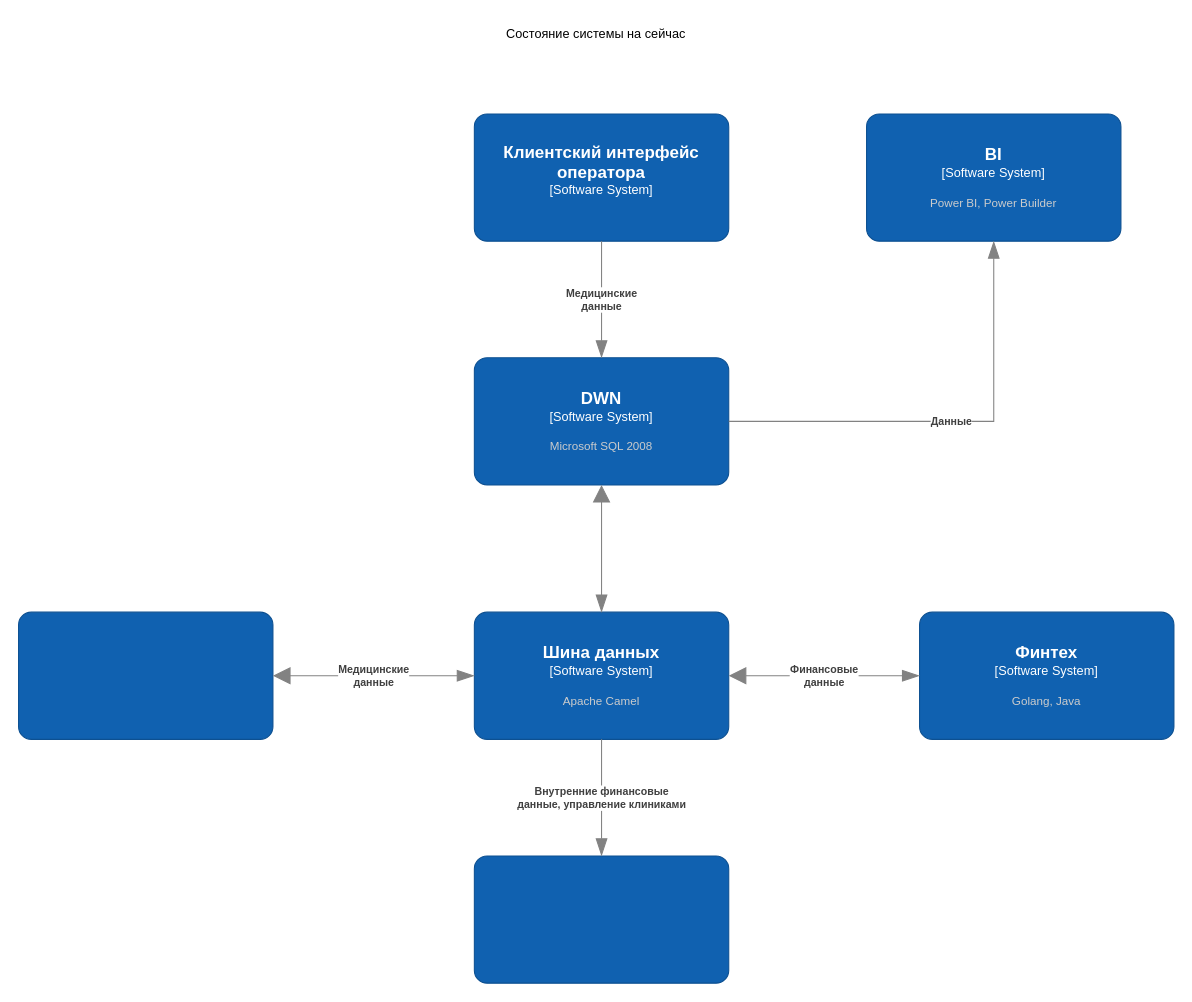
Some shapes in this 1192 by 1002 pixel diagram are drawn without their labels. Here are the shapes that lost their labels. From the top down, the centre of each, then its label:
pixel 145 675: ИИ сервисы [Software System] Python
pixel 601 919: Внутренние сервисы [Software System]
